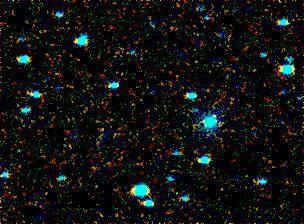star: (201, 103, 231, 133)
